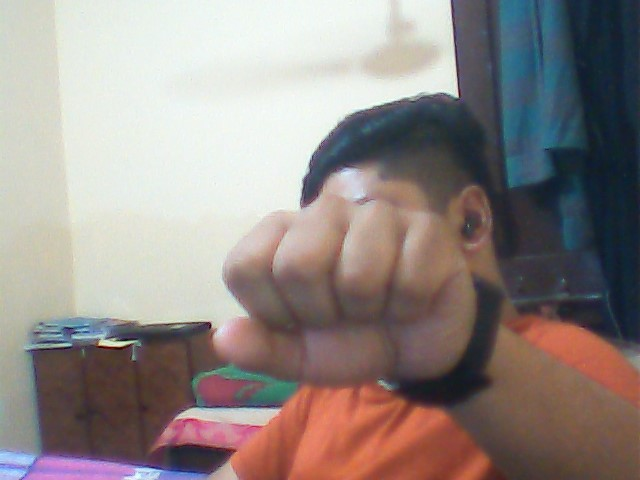Yes: (207, 199, 537, 408)
